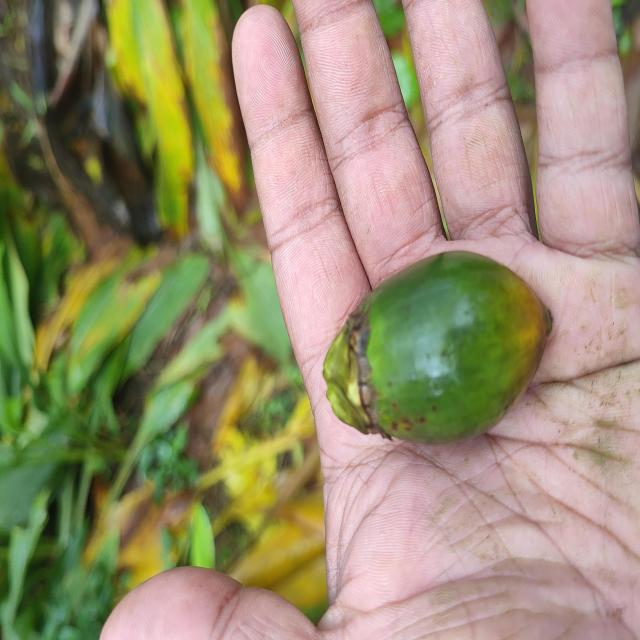damaged: (323, 252, 553, 447)
